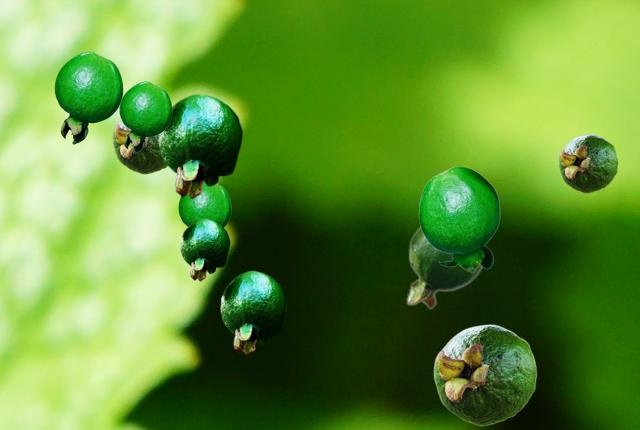guava: (433, 324, 536, 425), (158, 93, 242, 198), (418, 166, 499, 271), (406, 226, 484, 309), (54, 51, 122, 143), (220, 270, 286, 354), (119, 81, 171, 152), (558, 134, 617, 192), (180, 218, 229, 280), (112, 120, 167, 173), (178, 184, 230, 227)
